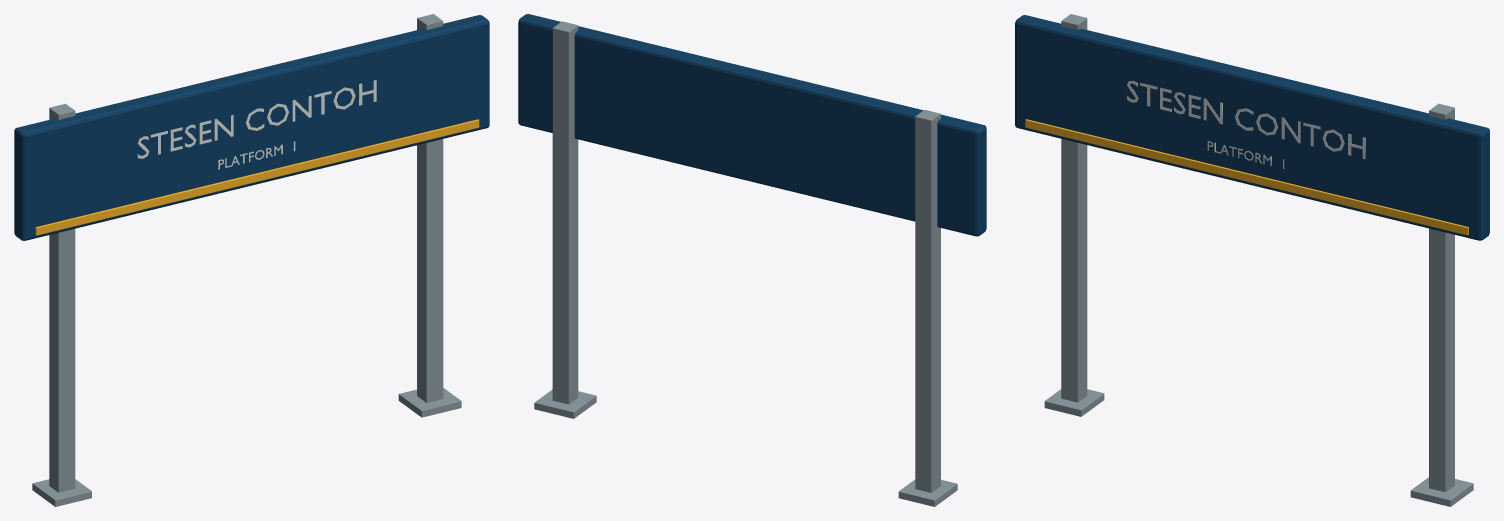
Rendered from edited.glb.
3 renders of one model, left to right at view 1: azimuth 30°, elevation 25°; view 2: azimuth 150°, elevation 25°; view 3: azimuth 330°, elevation 25°, orthographic.
Parts seen in each view (by area): view 1: SIGN_Panel, POST, POST.001, SIGN_Accent, EDITABLE_Station, MOUNT_Base.001, MOUNT_Base; view 2: SIGN_Panel, POST.001, POST, MOUNT_Base.001, MOUNT_Base; view 3: SIGN_Panel, POST, POST.001, SIGN_Accent, EDITABLE_Station, MOUNT_Base.001, MOUNT_Base.
Part boxes in pixels (x1,y1,x2,y2): SIGN_Panel: (14, 15, 489, 240); POST: (49, 103, 75, 492); POST.001: (417, 14, 443, 402); SIGN_Accent: (35, 119, 479, 235); EDITABLE_Station: (137, 80, 376, 158); MOUNT_Base.001: (398, 388, 461, 417); MOUNT_Base: (32, 479, 91, 506); SIGN_Panel: (518, 14, 986, 236); POST.001: (552, 21, 578, 404); POST: (915, 109, 940, 492); MOUNT_Base.001: (534, 389, 596, 418); MOUNT_Base: (898, 479, 957, 506); SIGN_Panel: (1015, 15, 1489, 240); POST: (1061, 14, 1087, 402); POST.001: (1429, 103, 1454, 492); SIGN_Accent: (1025, 119, 1468, 235); EDITABLE_Station: (1127, 81, 1365, 159); MOUNT_Base.001: (1410, 477, 1473, 506); MOUNT_Base: (1044, 389, 1104, 416).
Size of the model in its own units: 2.8 by 2.2 by 0.242.
